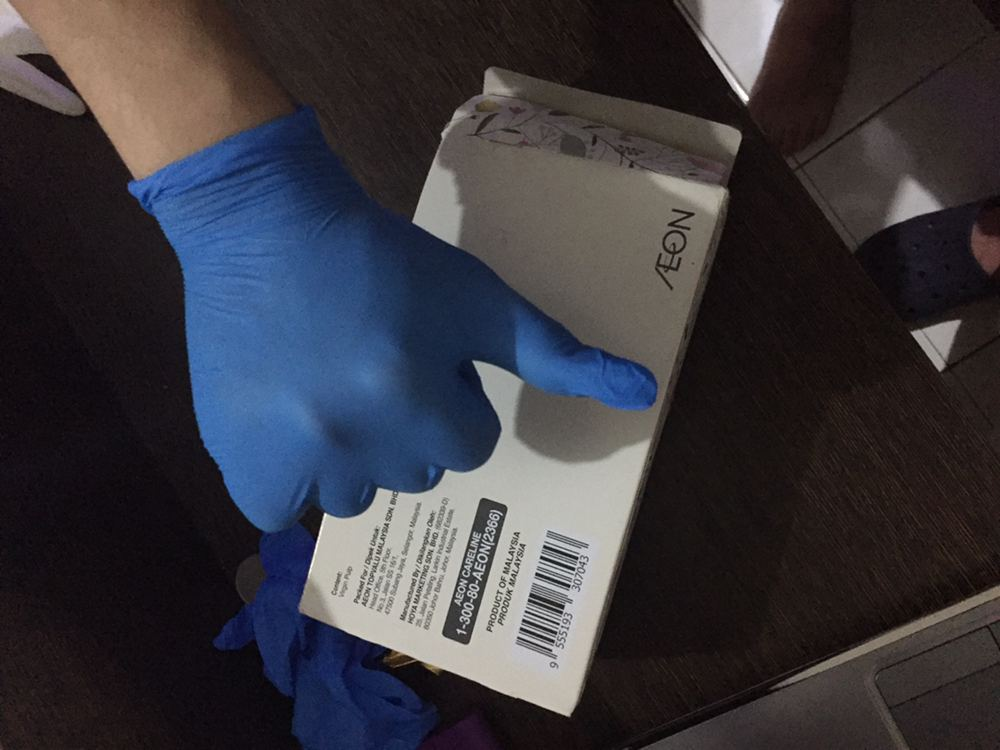glove: (117, 101, 671, 541)
